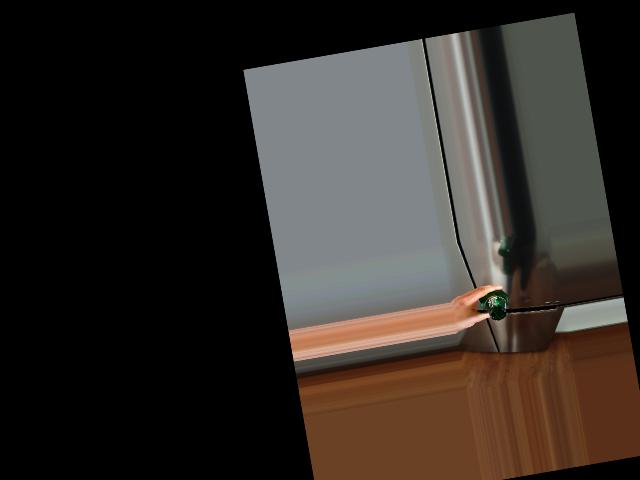beer: (478, 288, 511, 323)
